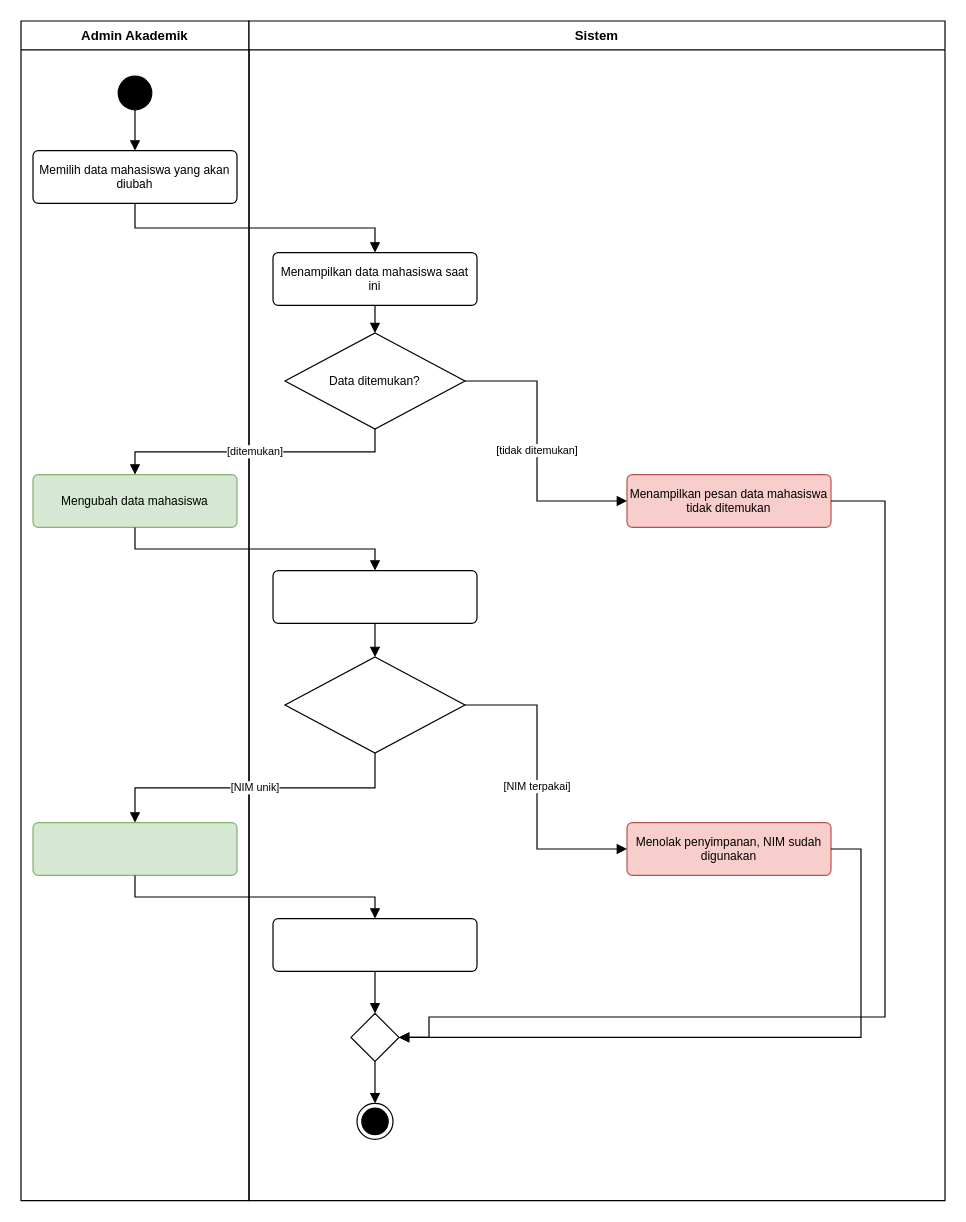
Some shapes in this 966 by 1222 pixel diagram are drawn without their labels. Here are the shapes that lost their labels. From the top down, the centre of each, then its label:
At (x=374, y=596): "Memeriksa perubahan data dan NIM tetap unik".
At (x=374, y=704): "Data dan NIM valid?".
At (x=134, y=848): "Menyimpan perubahan".
At (x=374, y=944): "Menyimpan perubahan data dan konfirmasi".
